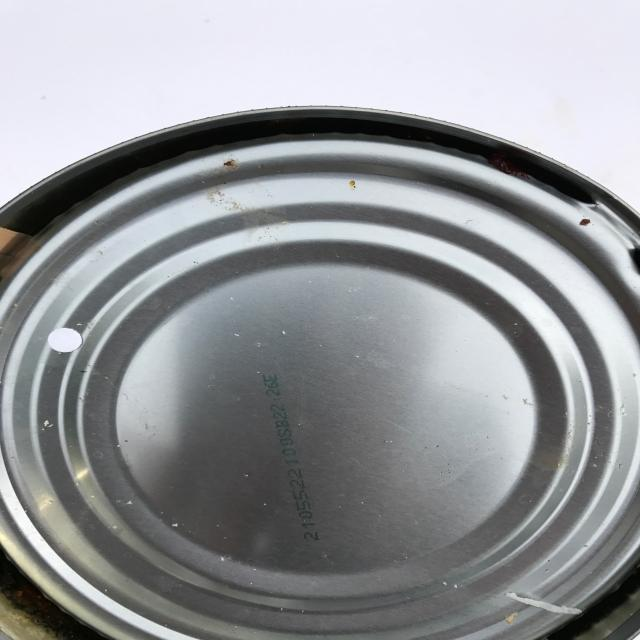metal: (1, 103, 640, 640)
